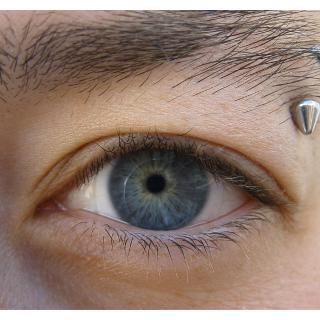pupil: (145, 173, 165, 193)
